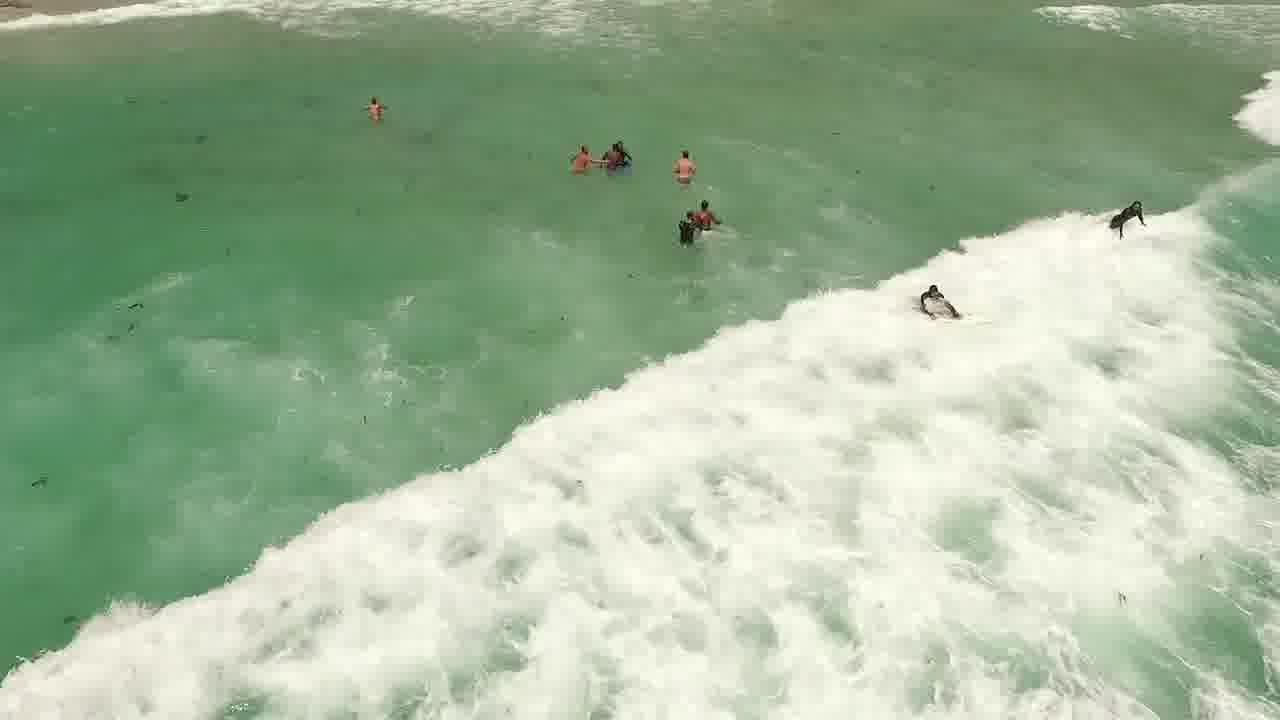human: (1092, 180, 1162, 234), (349, 79, 414, 136), (655, 134, 706, 190), (903, 264, 954, 308), (696, 182, 730, 240), (591, 131, 642, 169), (671, 202, 697, 249), (561, 137, 592, 166)
